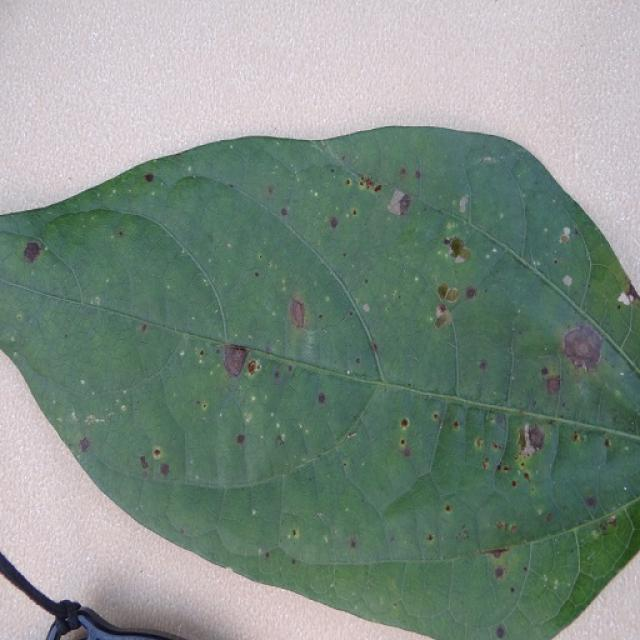Anthracnose: (560, 323, 605, 373), (222, 336, 257, 378), (517, 422, 545, 457), (443, 236, 473, 265), (386, 190, 412, 217), (540, 367, 561, 395), (436, 281, 461, 304), (289, 297, 307, 328), (617, 280, 639, 305), (22, 240, 43, 264), (434, 308, 452, 329), (359, 176, 381, 193), (517, 428, 529, 453), (79, 437, 91, 453), (560, 228, 572, 244), (465, 286, 477, 299), (328, 216, 339, 229), (496, 624, 506, 638), (494, 567, 505, 579), (585, 496, 597, 507), (160, 463, 170, 476), (140, 456, 149, 469), (609, 515, 619, 526), (143, 173, 154, 183), (478, 359, 488, 370), (492, 549, 504, 558), (402, 446, 411, 457), (317, 393, 326, 404), (369, 342, 378, 353), (236, 434, 245, 444), (276, 435, 285, 445), (400, 418, 409, 428), (266, 185, 275, 195), (438, 304, 447, 314), (153, 448, 162, 457), (349, 538, 357, 548), (139, 323, 147, 333), (541, 367, 549, 375)
Blackgram: (0, 128, 639, 639)
